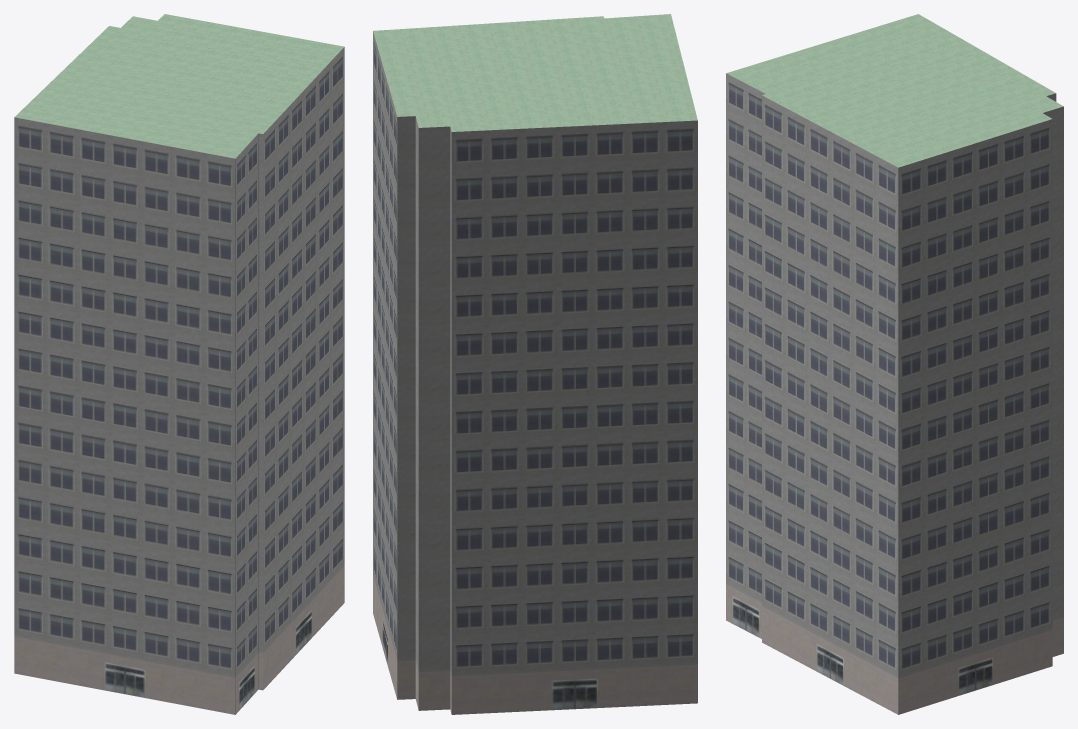
The picture shows the model from 3 angles, left to right: view 1: azimuth 30°, elevation 25°; view 2: azimuth 150°, elevation 25°; view 3: azimuth 270°, elevation 25°; orthographic projection. The views are drawn at different scales.
Parts seen in each view (by area): view 1: BuildingMaster_1976193811794462996000000000_0, BuildingMaster_1976193811794462996000000000_1; view 2: BuildingMaster_1976193811794462996000000000_0, BuildingMaster_1976193811794462996000000000_1; view 3: BuildingMaster_1976193811794462996000000000_0, BuildingMaster_1976193811794462996000000000_1.
Boxes of the visible parts, x1,y1,x2,y2 form: BuildingMaster_1976193811794462996000000000_0: (14,47,344,714); BuildingMaster_1976193811794462996000000000_1: (14,14,343,158); BuildingMaster_1976193811794462996000000000_0: (373,31,697,714); BuildingMaster_1976193811794462996000000000_1: (373,14,697,131); BuildingMaster_1976193811794462996000000000_0: (726,73,1063,714); BuildingMaster_1976193811794462996000000000_1: (726,14,1063,167).
Bounding box in the file's own units: 31.62 × 52.5 × 29.36.
Materials: 2 (2 with a texture image).
